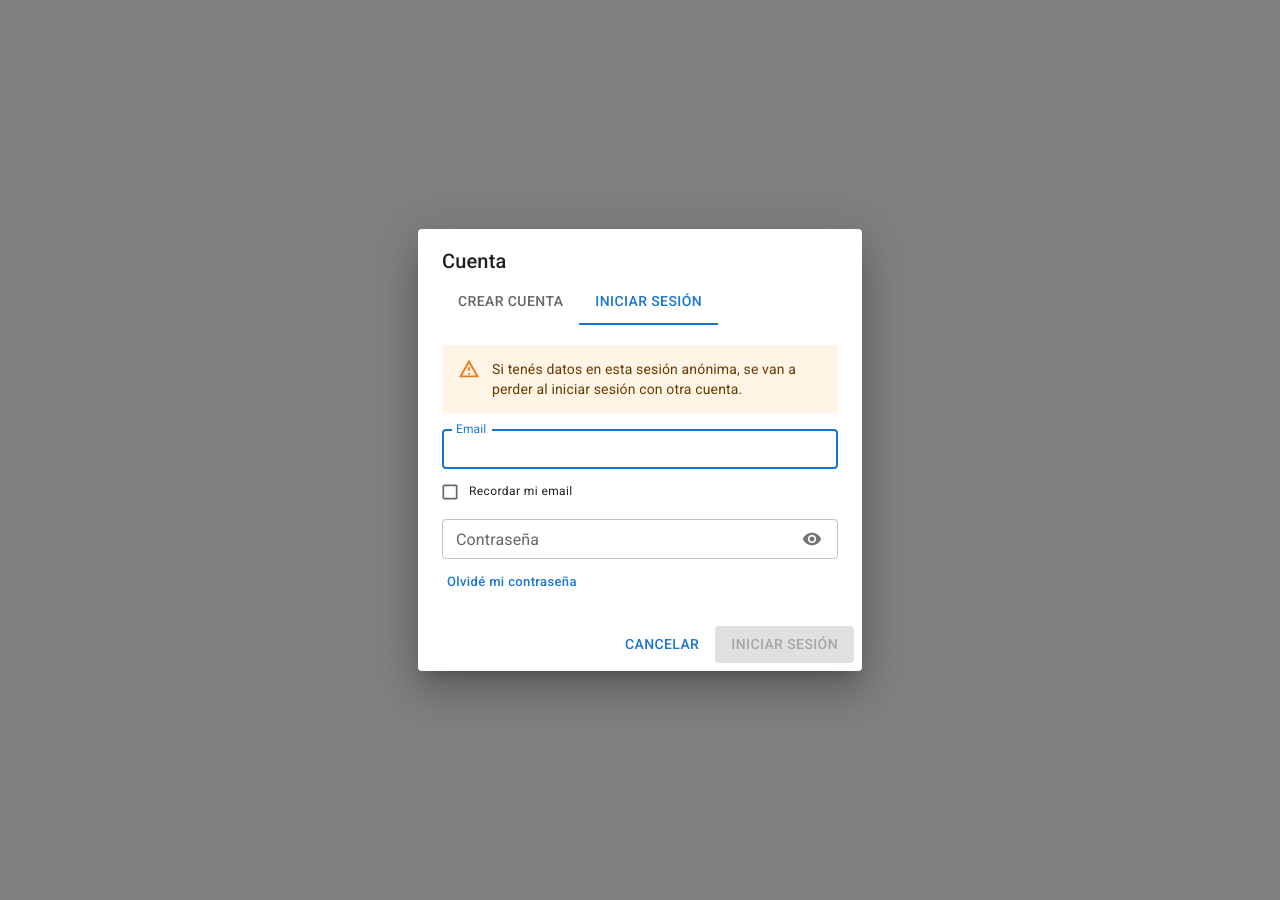
Test: EmailPasswordDialog › shows error when email is empty on forgot password
This screenshot has width=1280, height=900.
Click the button "Olvidé mi contraseña": (512, 583) [442,567,582,598]
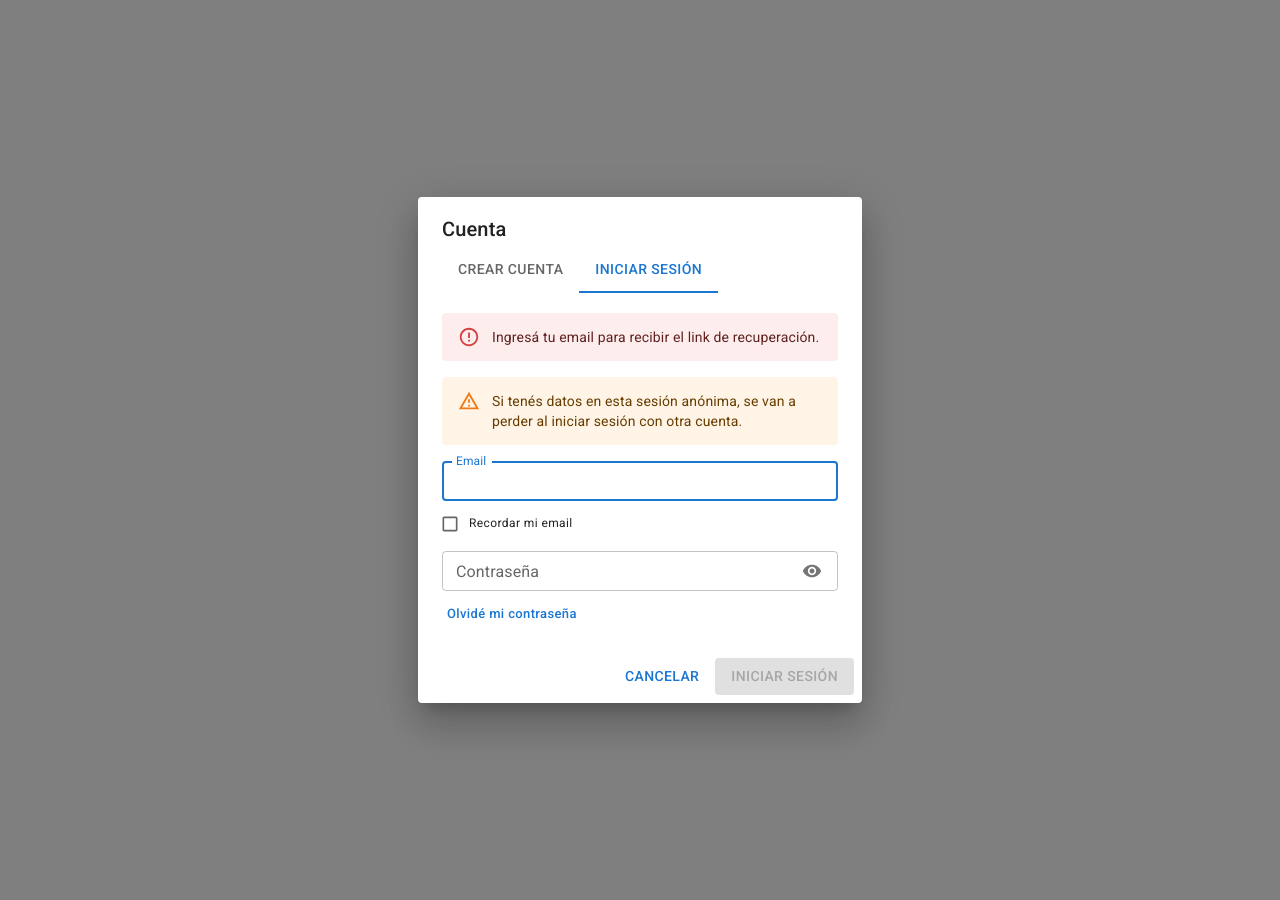
Now the text "Ingresá tu email para recibir el link de recuperación." is shown, box [492,329,819,345]
